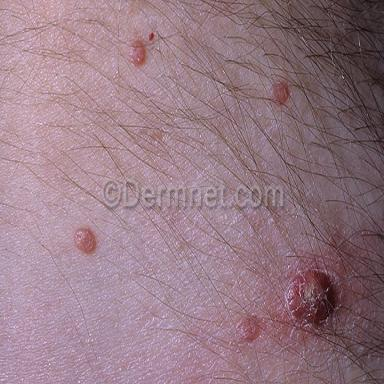Molluscum-Contagiosum: (236, 317, 260, 342), (74, 227, 96, 254), (129, 39, 146, 66), (274, 80, 289, 104)
